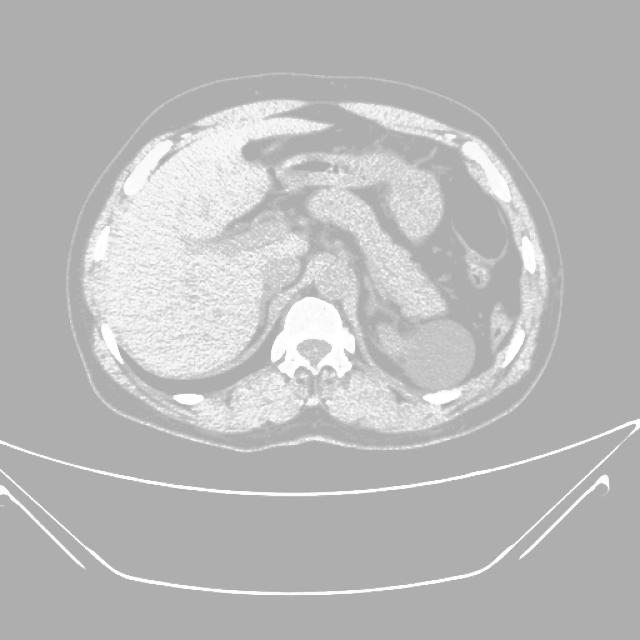cysts: (65, 78, 564, 454)
